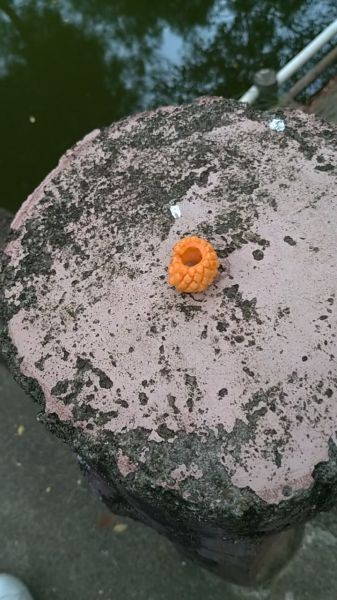eggs: (164, 231, 221, 293)
